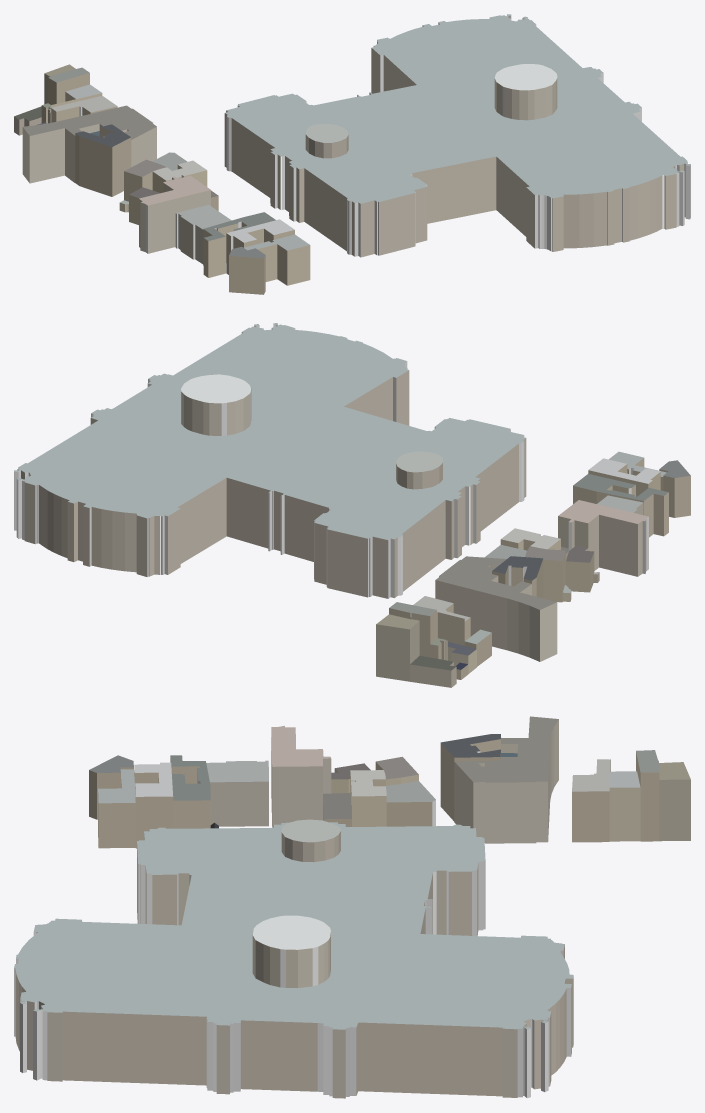
The picture shows the model from 3 angles, top to bottom: view 1: azimuth 30°, elevation 25°; view 2: azimuth 150°, elevation 25°; view 3: azimuth 270°, elevation 25°; orthographic projection. The views are drawn at different scales.
Parts seen in each view (by area): view 1: tuile; view 2: tuile; view 3: tuile.
Part boxes in pixels (left/top/right/bottom): tuile: left=14, top=14, right=690, bottom=294; tuile: left=14, top=323, right=690, bottom=687; tuile: left=14, top=716, right=690, bottom=1098.
Bounding box in the file's own units: 316 × 50.61 × 290.
